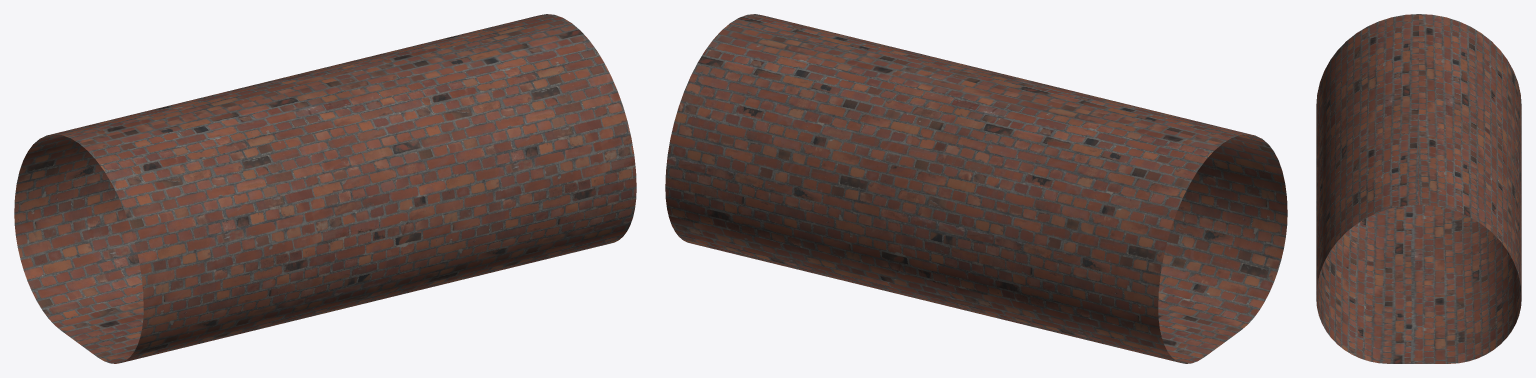
Rendered from kanal_1_mirror.obj.
The picture shows the model from 3 angles, left to right: view 1: azimuth 30°, elevation 25°; view 2: azimuth 150°, elevation 25°; view 3: azimuth 270°, elevation 25°; orthographic projection. The views are drawn at different scales.
Visible parts, largest first — view 1: kanal_1_mirror_CUBezierCurve.004; view 2: kanal_1_mirror_CUBezierCurve.004; view 3: kanal_1_mirror_CUBezierCurve.004.
Boxes of the visible parts, left/top/right/bottom form: kanal_1_mirror_CUBezierCurve.004: left=14, top=14, right=636, bottom=363; kanal_1_mirror_CUBezierCurve.004: left=665, top=14, right=1287, bottom=363; kanal_1_mirror_CUBezierCurve.004: left=1316, top=14, right=1521, bottom=363.
Bounding box in the file's own units: 8.79 × 3.42 × 4.
Materials: 1 (1 with a texture image).
